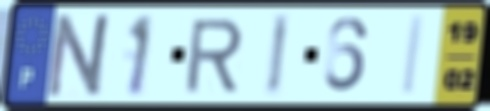1: (125, 12, 156, 99)
6: (323, 15, 372, 96)
I: (263, 11, 293, 99), (399, 13, 428, 99)
N: (43, 10, 118, 100)
R: (182, 15, 246, 95)
